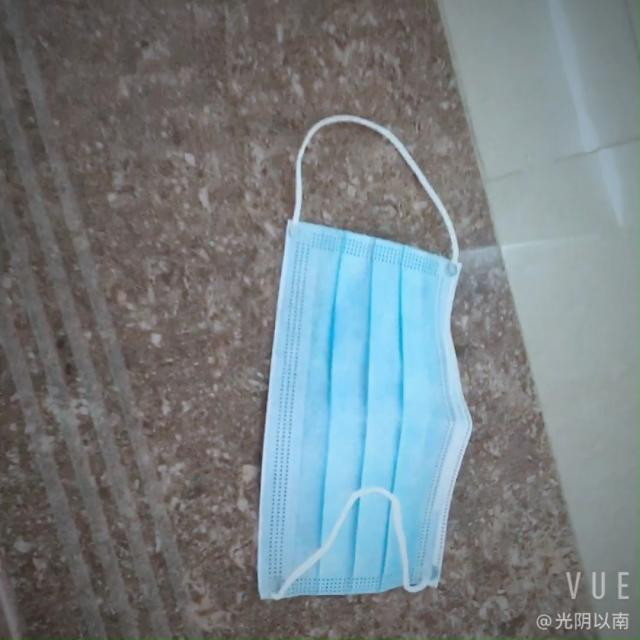non-organic waste: (226, 205, 472, 613)
